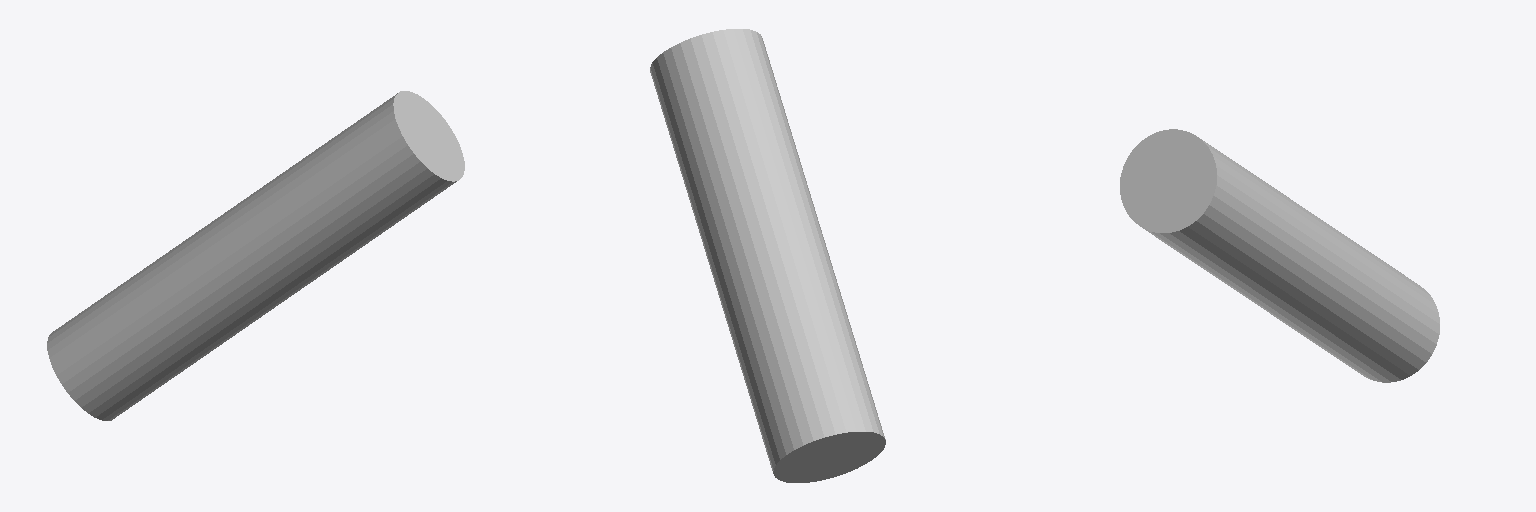
Rendered from mesh_upperleg_l1.obj.
3 views of the same model, side by side, from view 1: azimuth 30°, elevation 25°; view 2: azimuth 150°, elevation 25°; view 3: azimuth 270°, elevation 25° (orthographic).
Parts seen in each view (by area): view 1: Cylinder.008_Cylinder.018; view 2: Cylinder.008_Cylinder.018; view 3: Cylinder.008_Cylinder.018.
Boxes of the visible parts, <box> form: Cylinder.008_Cylinder.018: <box>47,91,464,420</box>; Cylinder.008_Cylinder.018: <box>650,29,885,482</box>; Cylinder.008_Cylinder.018: <box>1120,129,1439,382</box>.
Size of the model in its own units: 0.6828 by 0.7015 by 0.6009.